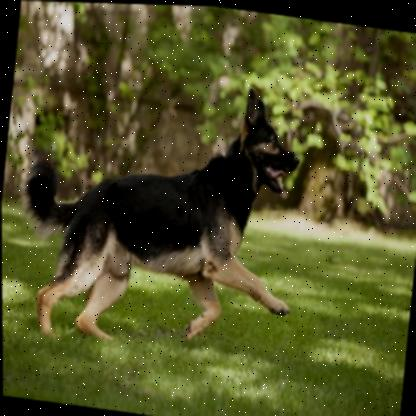dog: (0, 50, 326, 389)
